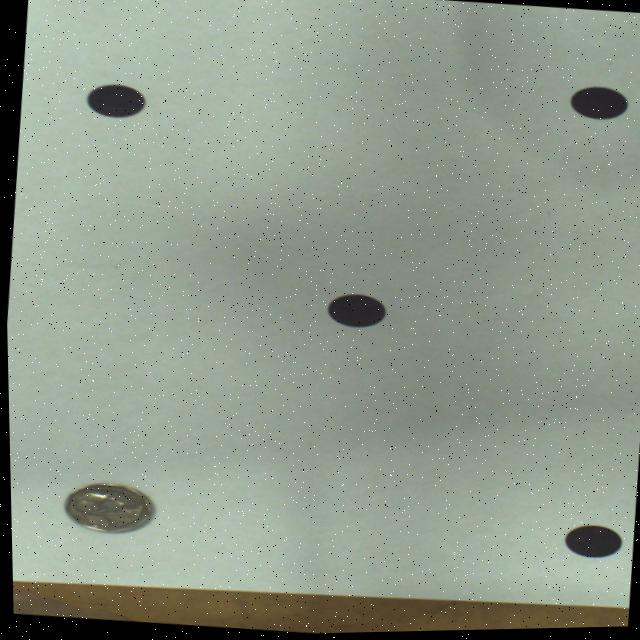head5bath: (63, 484, 149, 533)
space: (84, 84, 144, 118), (569, 89, 627, 122), (325, 296, 383, 329), (560, 528, 618, 560)
